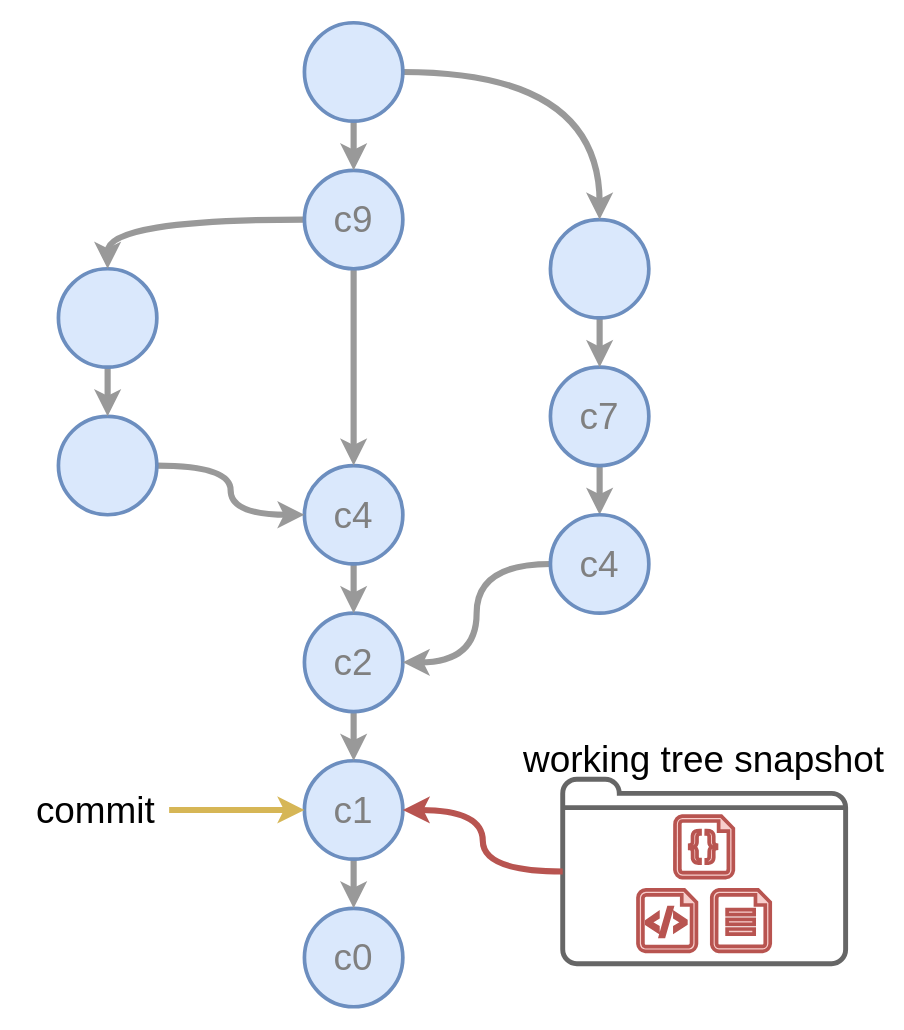
The diagram is 904 pixels wide and 1030 high, and some of its shapes have lost their labels. Here are the shapes that lost their labels. From the top down, the centre of each, then its label:
the point at 353,71: c10
the point at 599,268: c8
the point at 107,317: c6
the point at 107,465: c5
